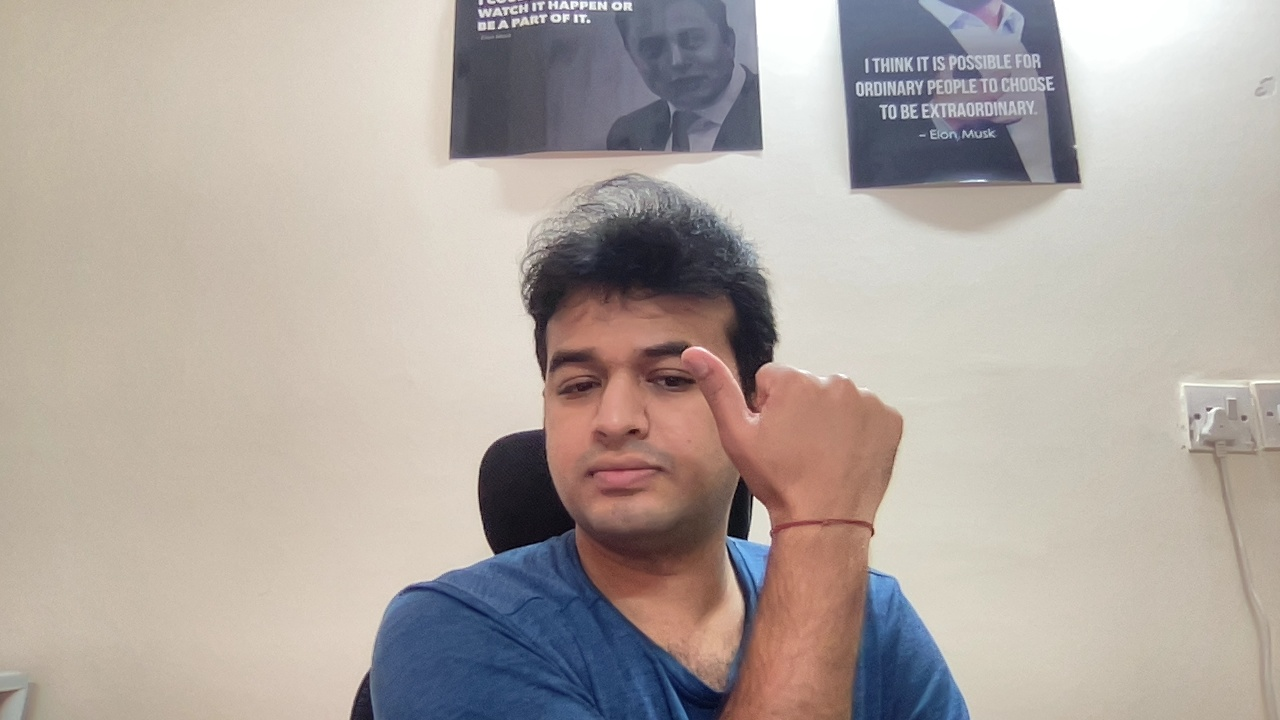right: (673, 341, 921, 526)
